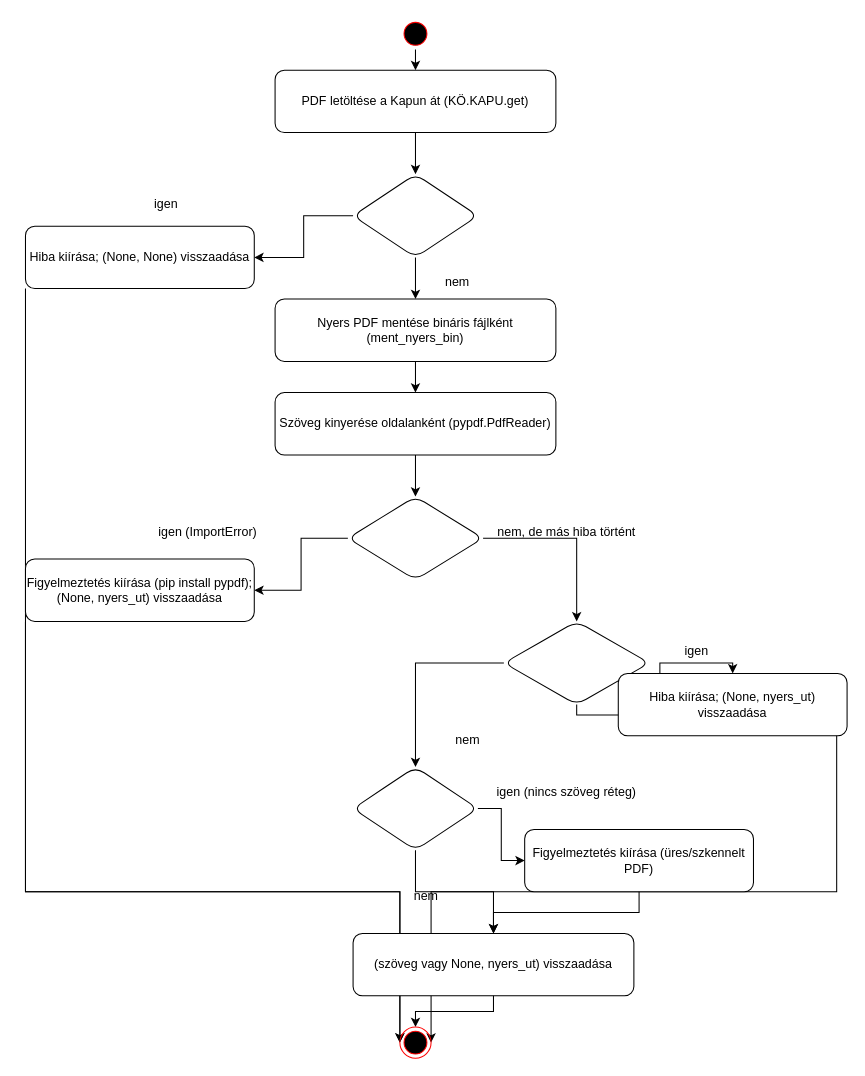
This 865x1076 diagram has some shape labels left out. Here are the shapes that lost their labels. From the top down, the centre of each, then its label:
At pixel 415 215: "hiba a letöltésnél?".
At pixel 415 538: "hiányzik a pypdf csomag?".
At pixel 576 662: "egyéb kinyerési hiba történt?".
At pixel 415 808: "a kinyert szöveg üres?".
